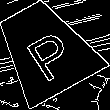P_NW: (14, 19, 76, 80)
